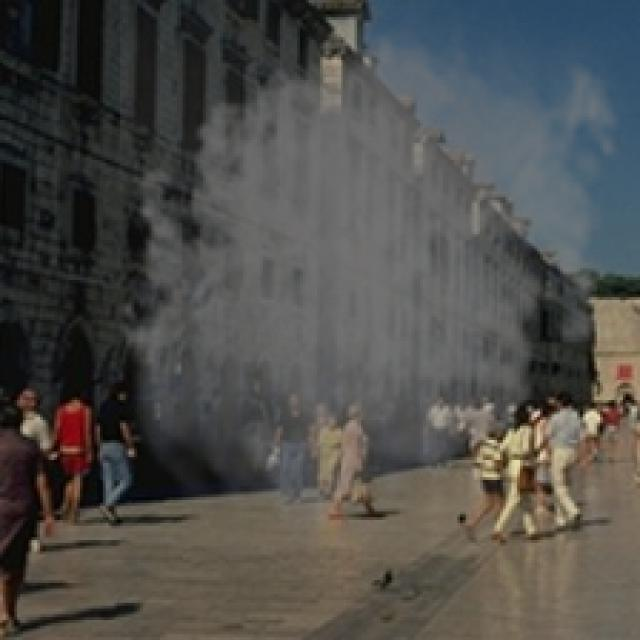smoke: (109, 0, 634, 560)
